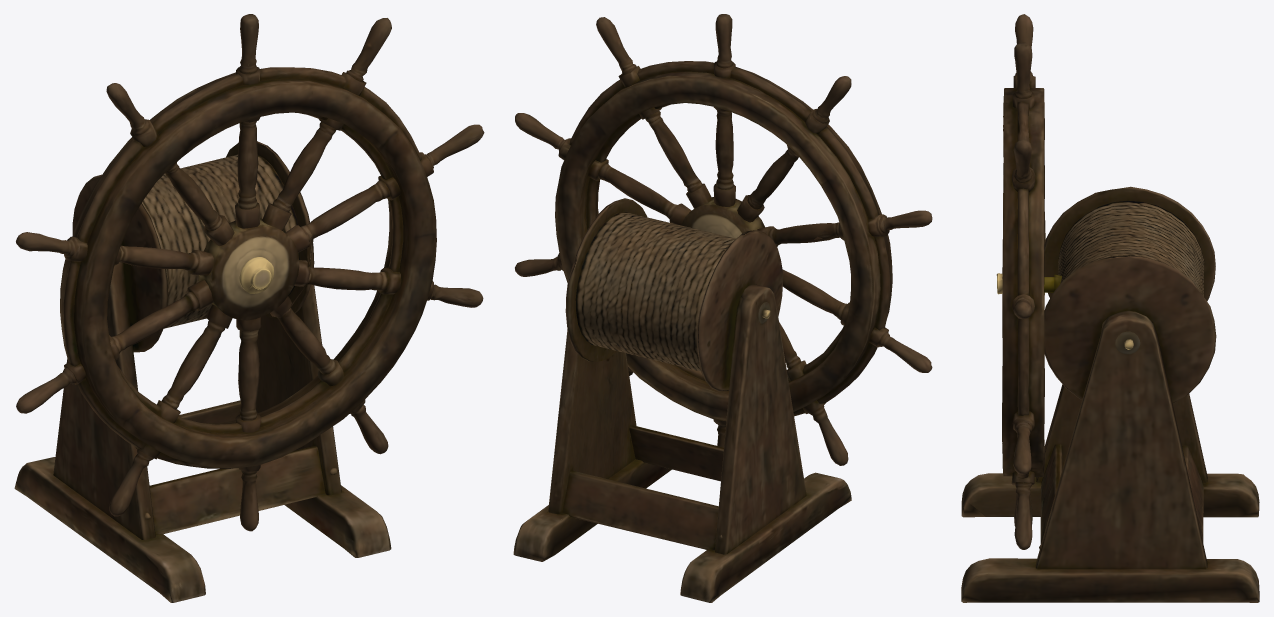
File: wheel.glb
3 renders of one model, left to right at view 1: azimuth 30°, elevation 25°; view 2: azimuth 150°, elevation 25°; view 3: azimuth 270°, elevation 25°, orthographic. The views are drawn at different scales.
Parts seen in each view (by area): view 1: geometry_0; view 2: geometry_0; view 3: geometry_0.
Part boxes in pixels (x1,y1,x2,y2): geometry_0: (14, 14, 484, 602); geometry_0: (513, 14, 932, 602); geometry_0: (961, 14, 1259, 602).
Bounding box in the file's own units: 0.9074 × 1 × 0.5333.
Materials: 1 (1 with a texture image).
